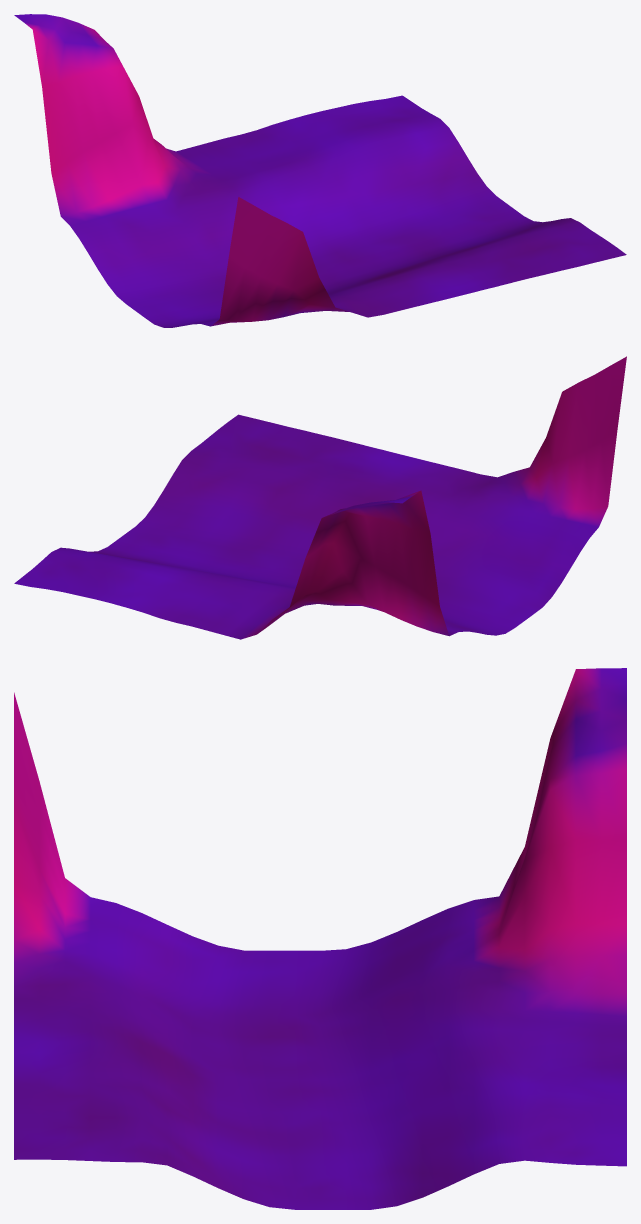
File: ground_50.glb
3 renders of one model, top to bottom at view 1: azimuth 30°, elevation 25°; view 2: azimuth 150°, elevation 25°; view 3: azimuth 270°, elevation 25°, orthographic. The views are drawn at different scales.
Visible parts, largest first — view 1: Ground_50; view 2: Ground_50; view 3: Ground_50.
Part boxes in pixels (x1,y1,x2,y2): Ground_50: (14, 14, 626, 327); Ground_50: (14, 356, 626, 639); Ground_50: (14, 668, 626, 1209).
Size of what is drawn, in the model's own units: 24 by 12.21 by 24.
